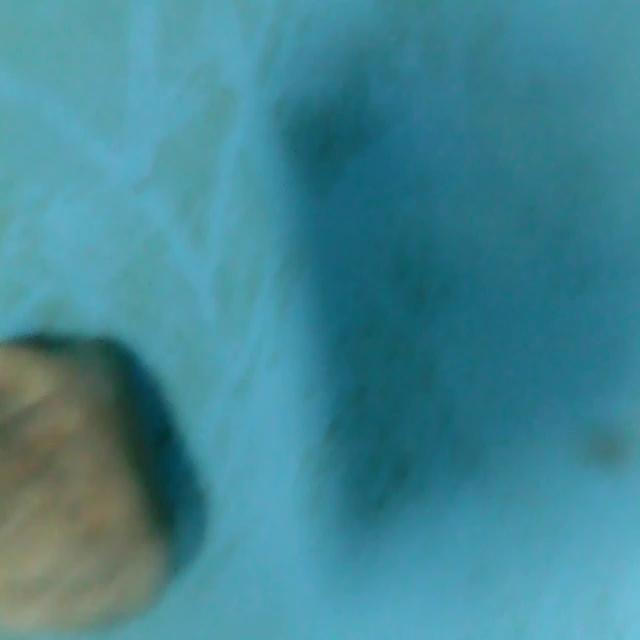rock: (0, 324, 188, 640)
